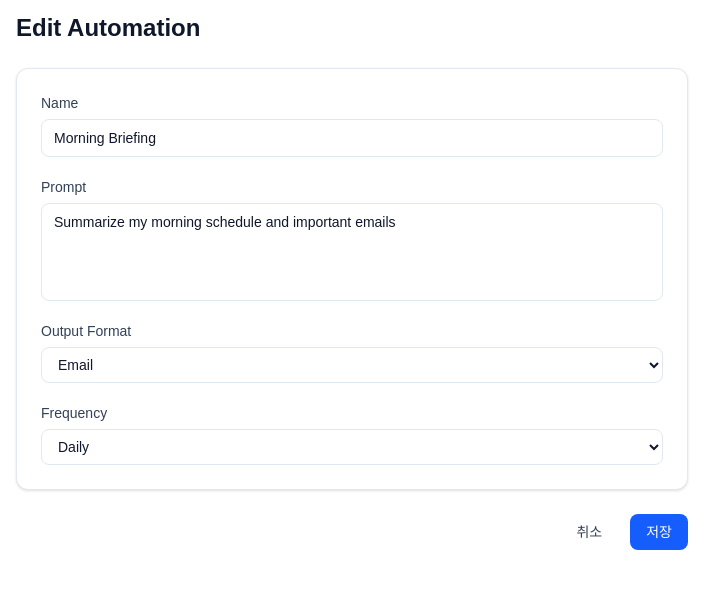
Validation: empty agent_prompt › shows error message when prompt is cleared and Save clicked — RED: no validation in stub
Clear the text box labelled "Prompt": coordinates (352, 252) 41,203 -> 663,301
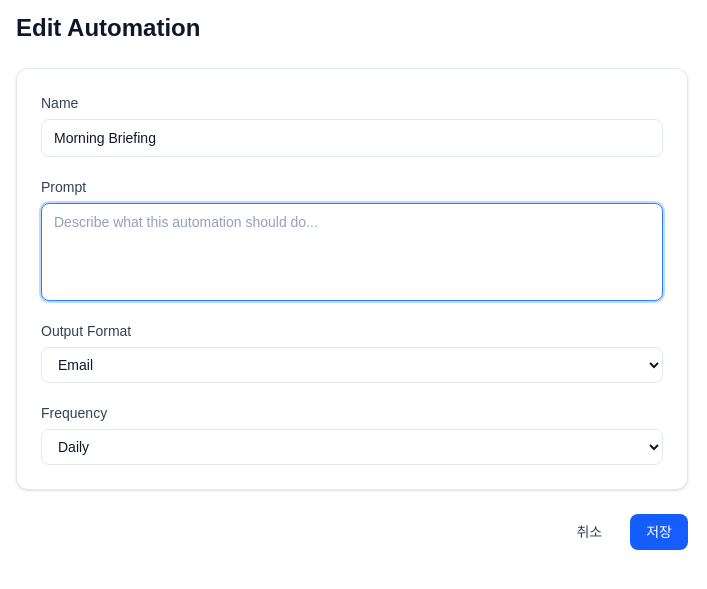
Click the button "저장": coordinates (659, 532) 630,514 -> 688,550
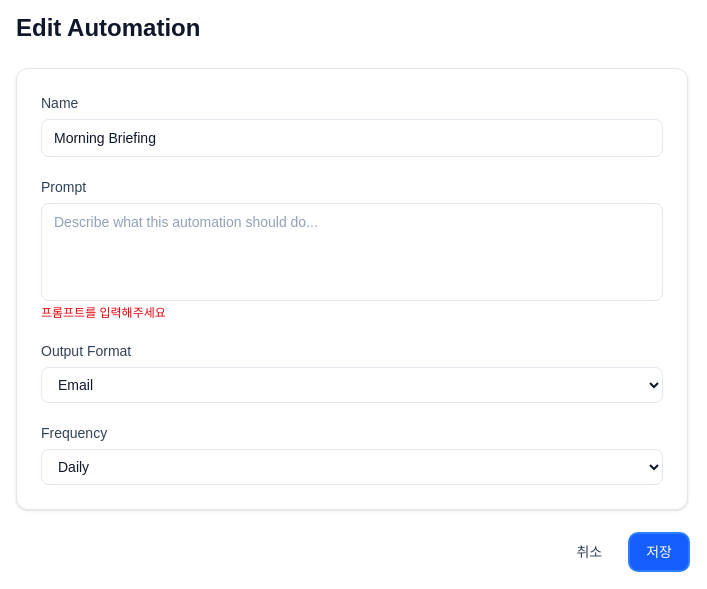
Expected: the text "프롬프트를 입력해주세요" is shown, 41,306 -> 166,320
